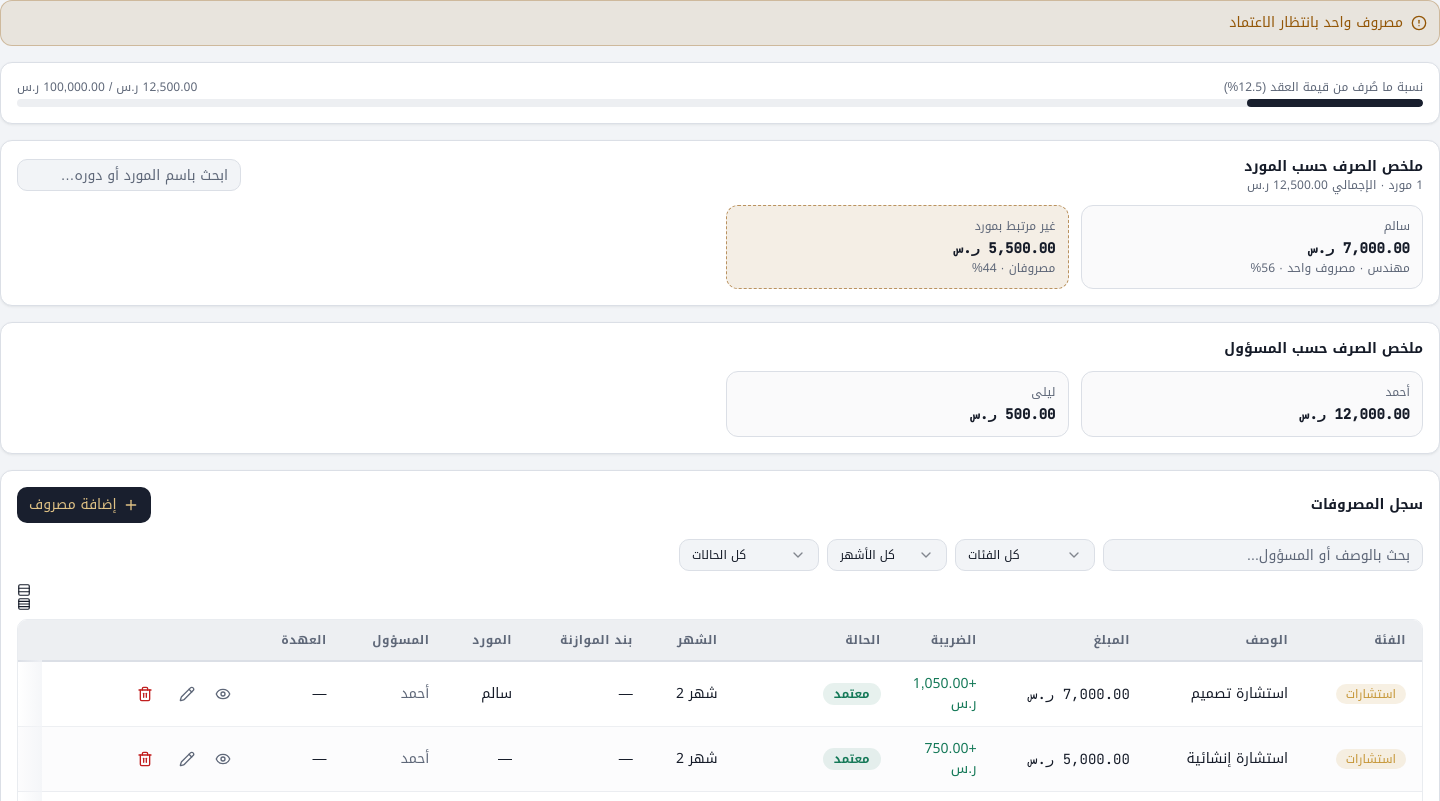
Test case: spend per resource › follows the table's filters, so narrowing the table updates the cards
In the field with placeholder "بحث بالوصف أو المسؤول...": (1263, 555) [1103, 539, 1423, 571], type "استشارة معلّقة"
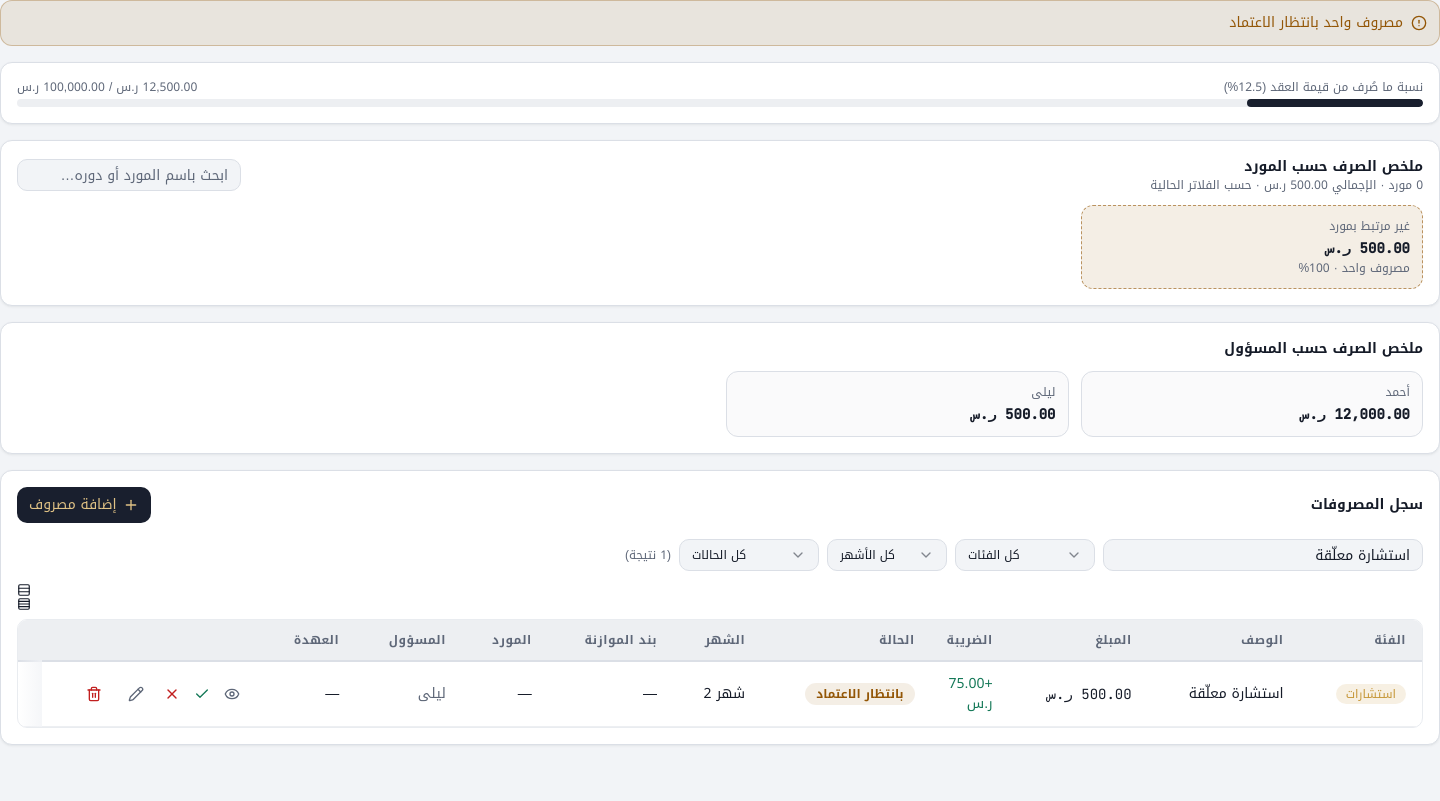
Now the text "0 مورد · الإجمالي 500.00 ر.س · حسب الفلاتر الحالية" is shown, box [1150, 177, 1423, 193]
Now the text "500.00 ر.س" below "مورد · الإجمالي" is shown, box [1326, 239, 1410, 257]
Now the button "سالم" is gone
